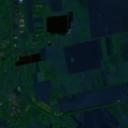alloviz: (45, 10, 74, 38), (15, 51, 42, 67)
